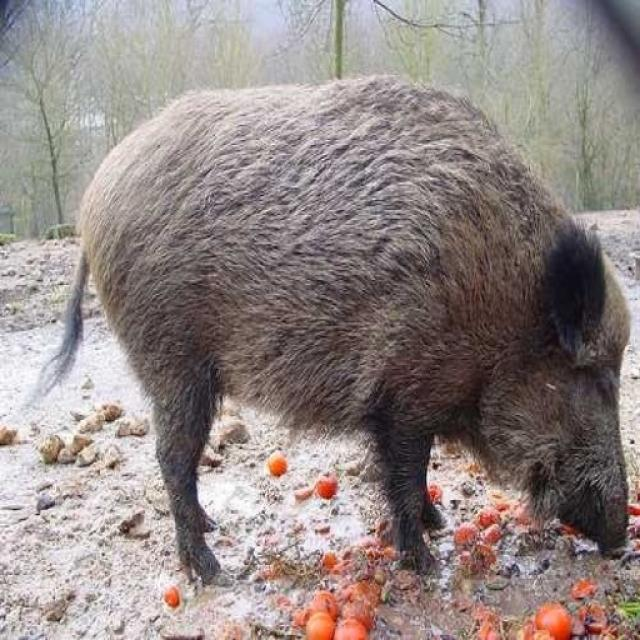pig: (54, 61, 640, 560)
